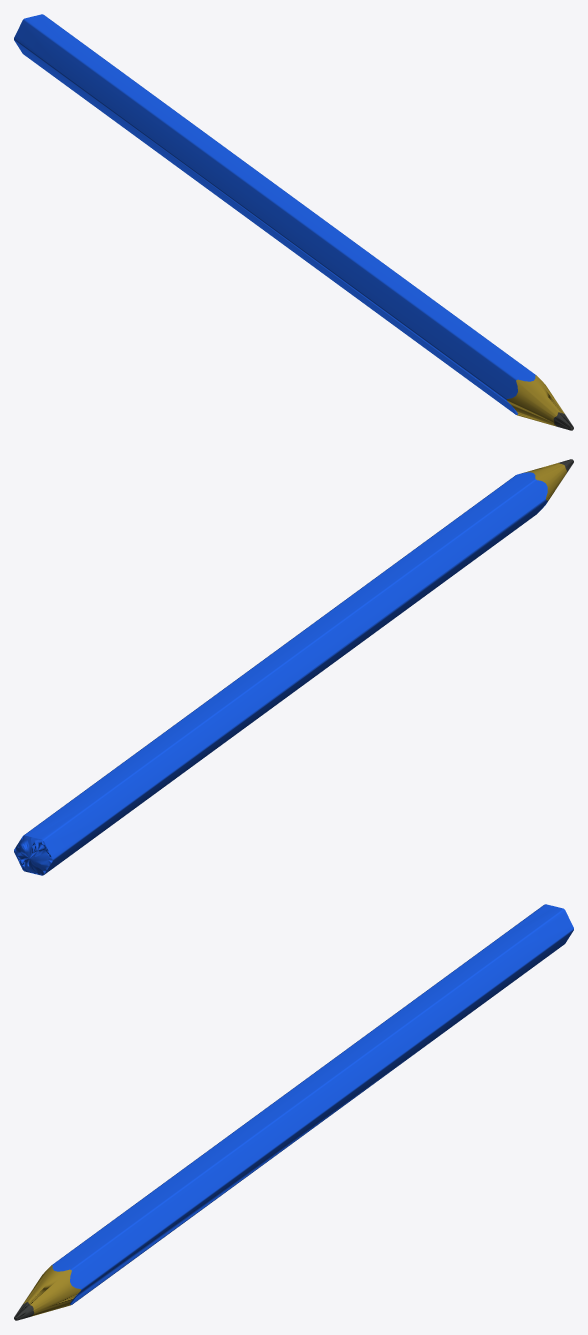
The model's file is lapiz.obj.
The picture shows the model from 3 angles, top to bottom: view 1: azimuth 30°, elevation 25°; view 2: azimuth 150°, elevation 25°; view 3: azimuth 330°, elevation 25°; orthographic projection.
Parts seen in each view (by area): view 1: as_pencil polySurface1, polySurface2 as_pencil polySurface3; view 2: as_pencil polySurface1, polySurface2 as_pencil polySurface3; view 3: as_pencil polySurface1, polySurface2 as_pencil polySurface3.
Part boxes in pixels (x1=…): as_pencil polySurface1: x1=14, y1=14, x2=536, y2=414; polySurface2 as_pencil polySurface3: x1=507, y1=375, x2=564, y2=426; as_pencil polySurface1: x1=14, y1=473, x2=547, y2=875; polySurface2 as_pencil polySurface3: x1=522, y1=463, x2=566, y2=501; as_pencil polySurface1: x1=51, y1=904, x2=573, y2=1304; polySurface2 as_pencil polySurface3: x1=23, y1=1265, x2=80, y2=1316.
Bounding box in the file's own units: 0.0677 × 0.0603 × 1.64.
4 materials, 4 textured.
